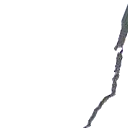crackTip: (81, 1, 127, 128)
